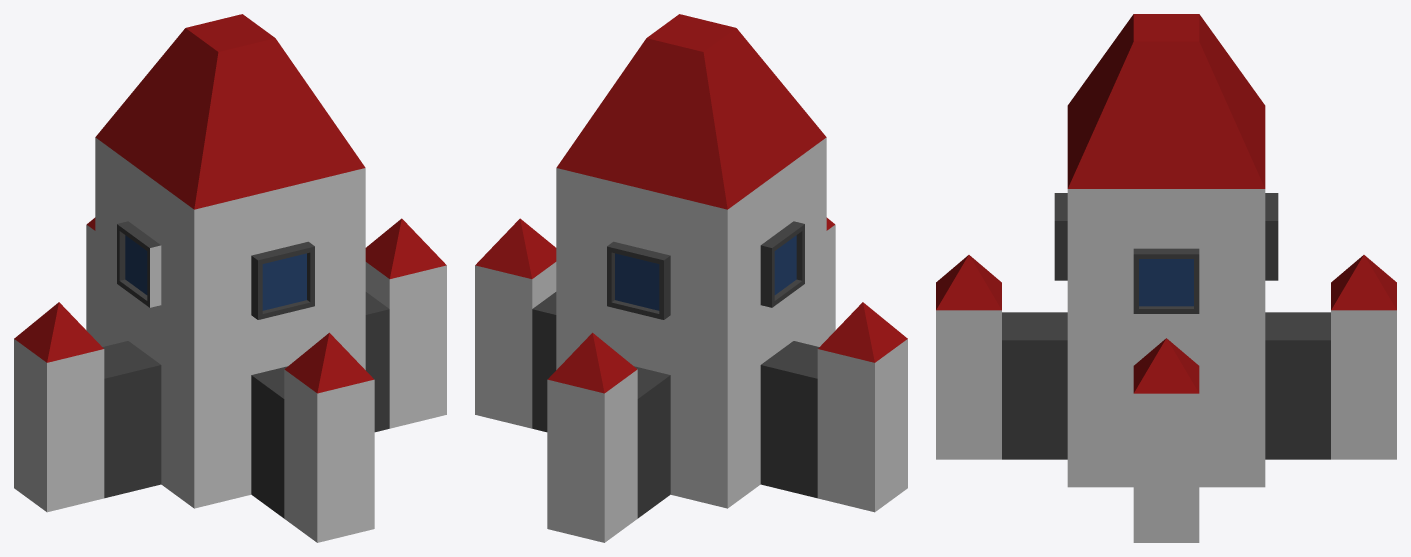
File: spaceship.FBX
3 views of the same model, side by side, from view 1: azimuth 30°, elevation 25°; view 2: azimuth 150°, elevation 25°; view 3: azimuth 270°, elevation 25° (orthographic).
Parts seen in each view (by area): view 1: Spaceship; view 2: Spaceship; view 3: Spaceship.
Boxes of the visible parts, box(x1,y1,x2,y2) form: Spaceship: box(14, 14, 446, 542); Spaceship: box(475, 14, 907, 542); Spaceship: box(936, 14, 1396, 542).
Size of the model in its own units: 70 by 70 by 70.
